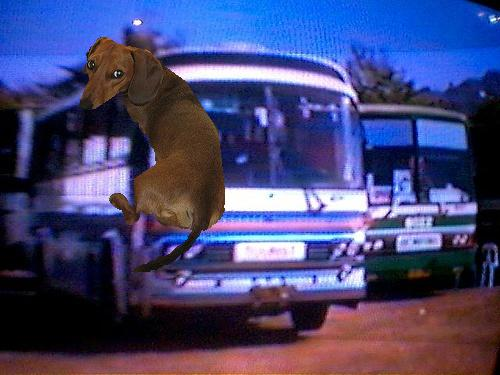tampered: (80, 38, 225, 272)
